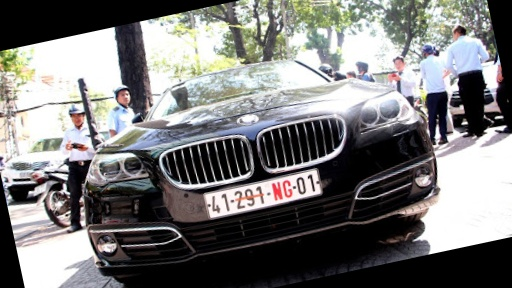plate: (204, 168, 324, 225)
